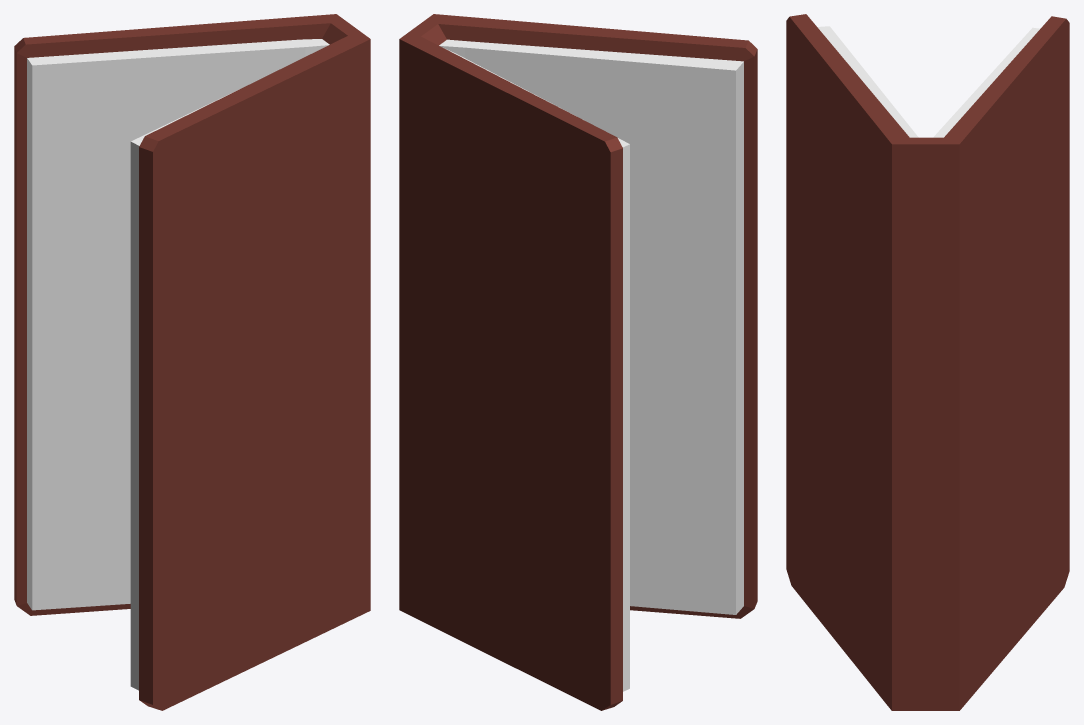
Rendered from bookopen03.obj.
The picture shows the model from 3 angles, left to right: view 1: azimuth 30°, elevation 25°; view 2: azimuth 150°, elevation 25°; view 3: azimuth 270°, elevation 25°; orthographic projection.
Parts seen in each view (by area): view 1: Cube.001_Cube.004; view 2: Cube.001_Cube.004; view 3: Cube.001_Cube.004.
Boxes of the visible parts, x1,y1,x2,y2 form: Cube.001_Cube.004: (14,14,370,710); Cube.001_Cube.004: (399,14,757,710); Cube.001_Cube.004: (786,14,1069,710).
Size of the model in its own units: 0.1163 by 0.2299 by 0.1041.
